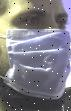with_mask: (1, 1, 71, 111)
